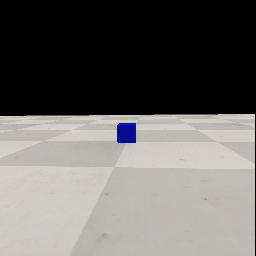box: (117, 123, 136, 143)
